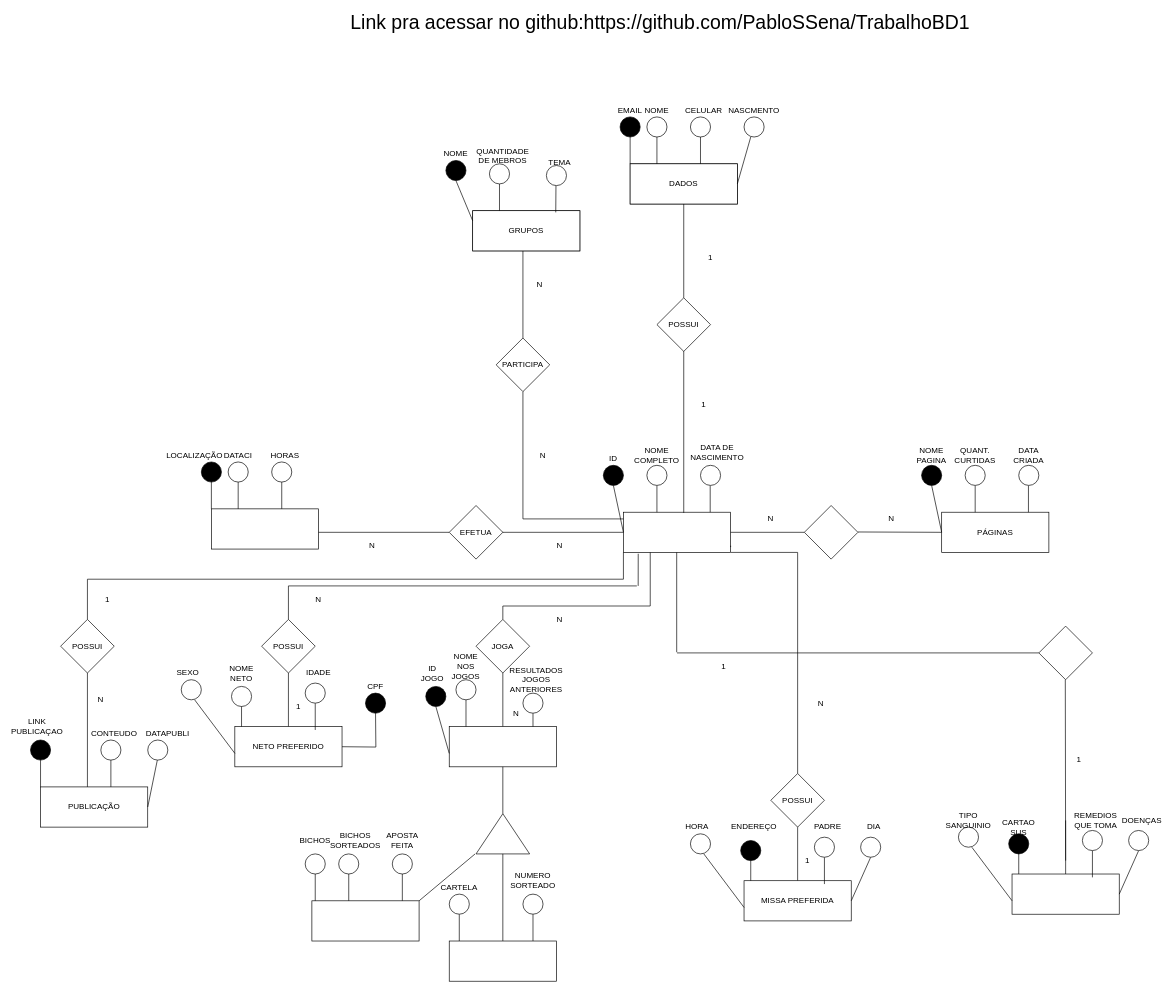
This 1173x993 diagram has some shape labels left out. The shapes that lost their labels are listed below. From the top down, each one's centre as x and y in pixels, then its label:
the point at 265,528: CHECK-IN
the point at 677,532: USUÁRIOS
the point at 831,532: CURTE
the point at 1065,652: TEM
the point at 502,746: JOGOS
the point at 1065,893: INFORMACOES MEDICAS
the point at 365,920: JOGO DO BICHO
the point at 502,960: BINGO
